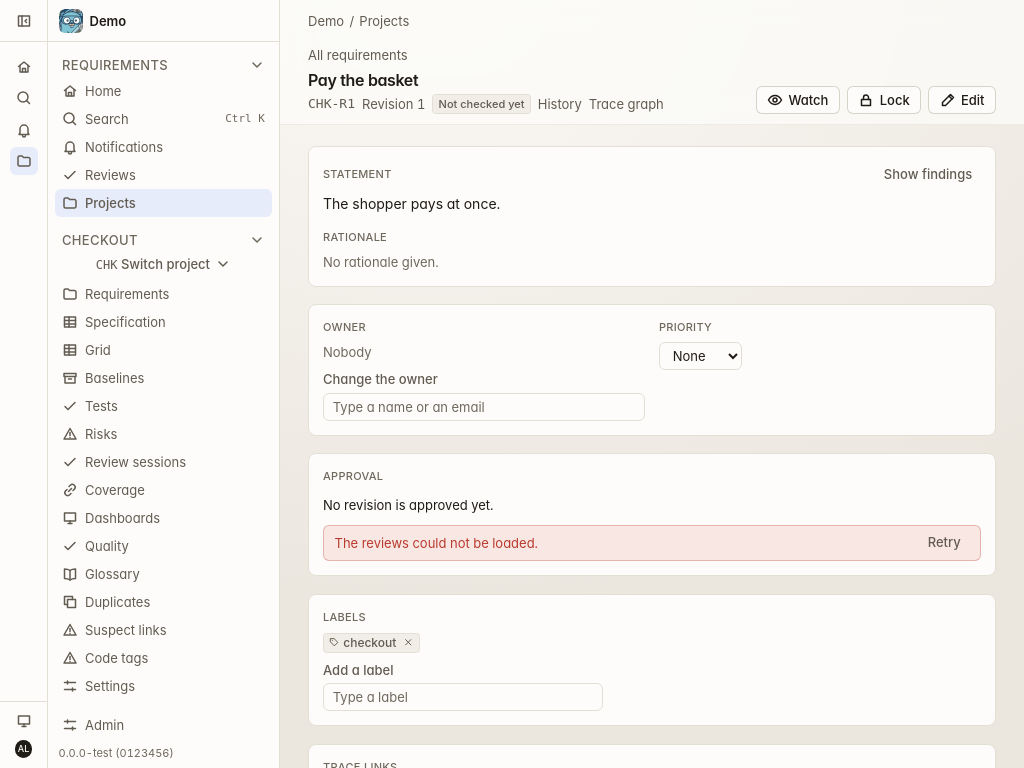
Test: labels on a requirement › says why a typed name cannot be a label, and does not send it
The width and height of the screenshot is (1024, 768).
Step 1. Type "a/b" into the dropdown labelled "Add a label" → (463,697), box x1=323 y1=683 x2=603 y2=711
Then press Enter
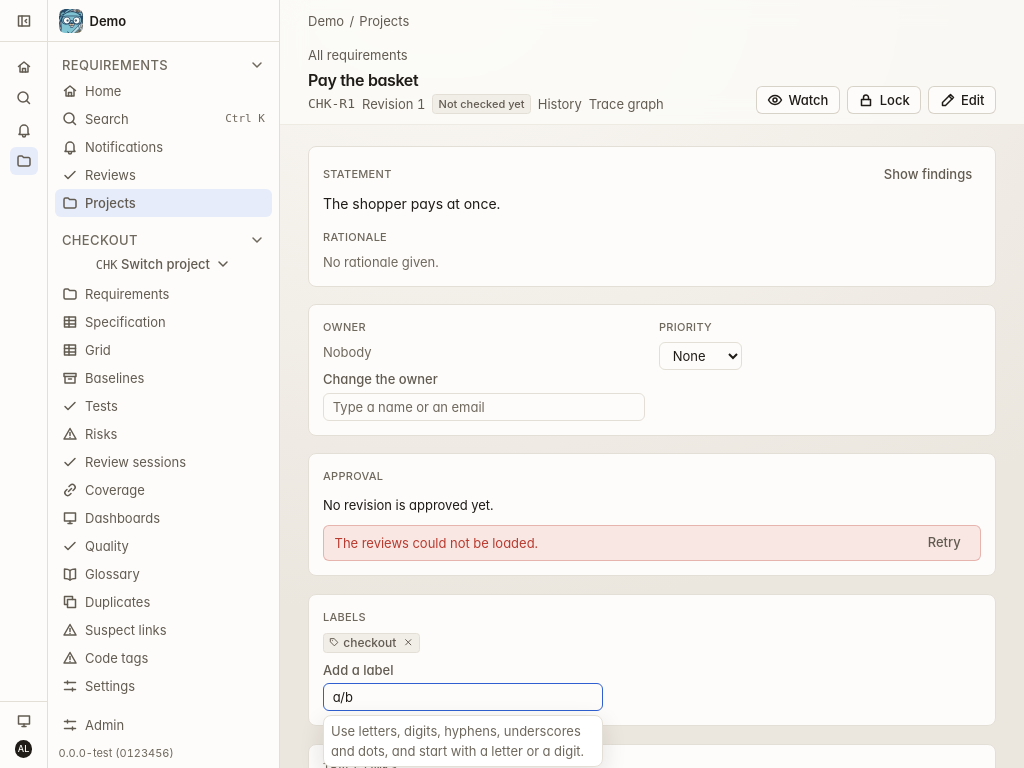
Expected: the text "Use letters, digits, hyphens" is shown, x1=331 y1=723 x2=584 y2=759
